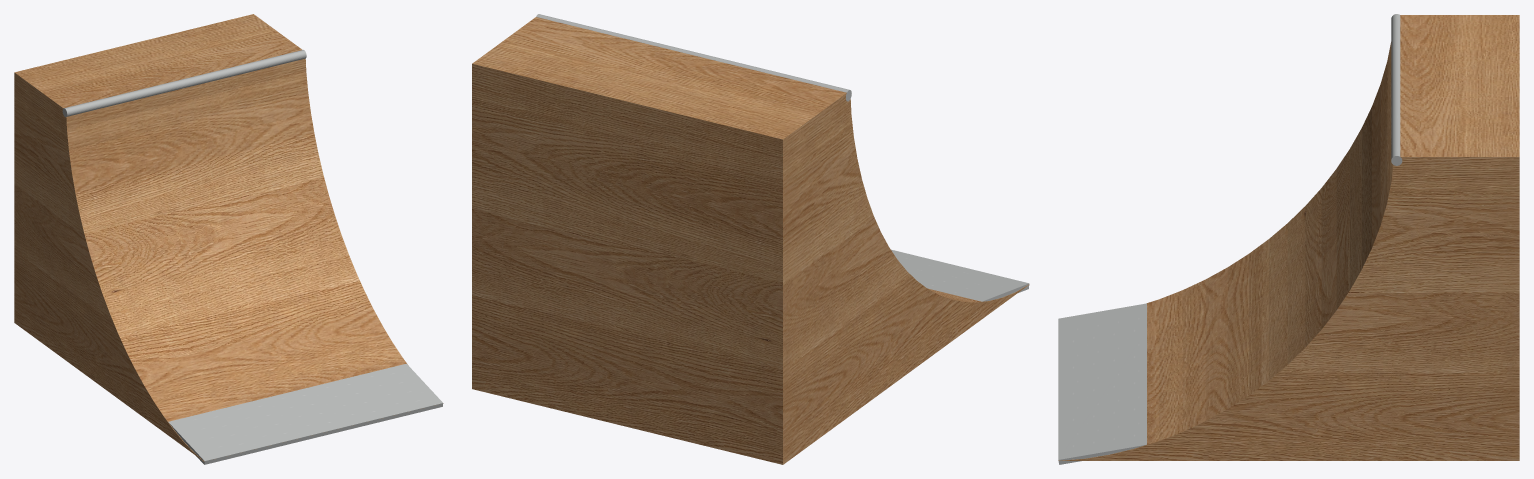
Rendered from LargeRamp.fbx.
The picture shows the model from 3 angles, left to right: view 1: azimuth 30°, elevation 25°; view 2: azimuth 150°, elevation 25°; view 3: azimuth 270°, elevation 25°; orthographic projection. The views are drawn at different scales.
Visible parts, largest first — view 1: Cube, Cube.001, Cylinder; view 2: Cube, Cube.001, Cylinder; view 3: Cube, Cube.001, Cylinder.
Boxes of the visible parts, left/top/right/bottom form: Cube: left=14, top=14, right=408, bottom=461; Cube.001: left=168, top=363, right=443, bottom=464; Cylinder: left=62, top=50, right=306, bottom=117; Cube: left=472, top=17, right=1029, bottom=464; Cube.001: left=891, top=249, right=1029, bottom=301; Cylinder: left=536, top=14, right=851, bottom=101; Cube: left=1058, top=15, right=1519, bottom=460; Cube.001: left=1058, top=303, right=1146, bottom=464; Cylinder: left=1391, top=14, right=1402, bottom=165.
Size of the model in its own units: 300 by 305 by 413.
Materials: 2 (2 with a texture image).
